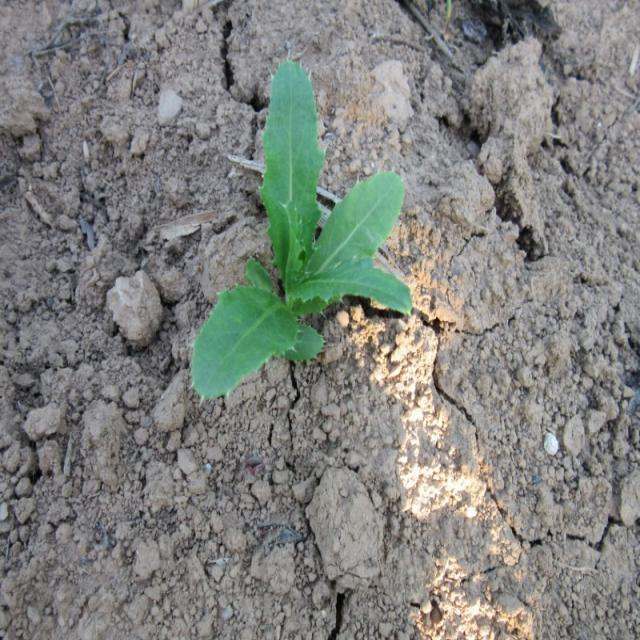cs: (189, 55, 417, 405)
